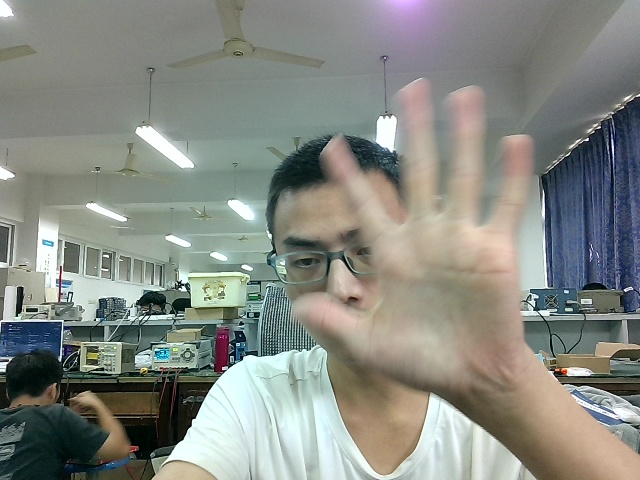paper: (283, 74, 541, 429)
